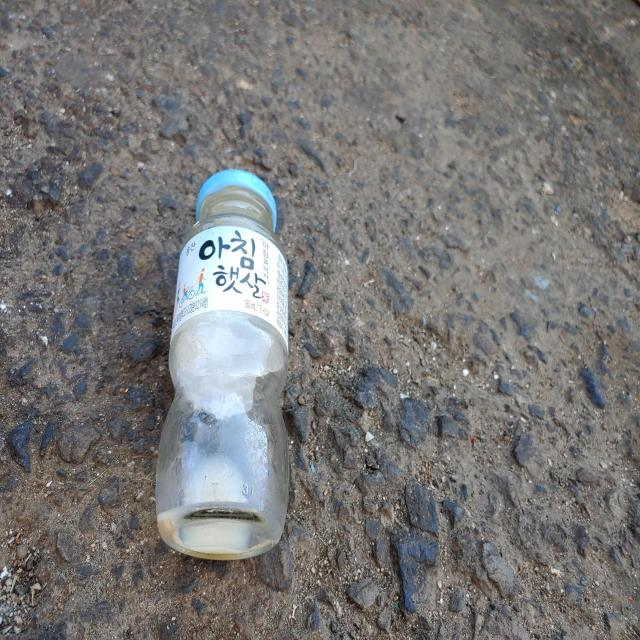glass: (155, 169, 289, 561)
